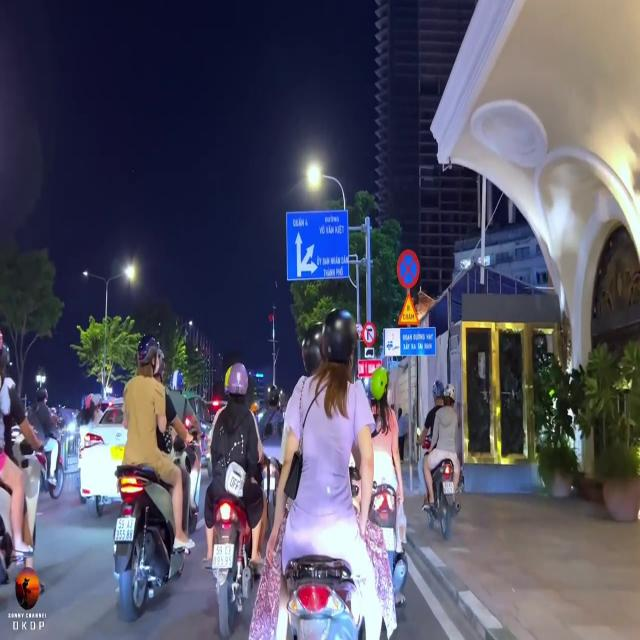bien_trang: (212, 543, 234, 569), (114, 517, 134, 541)
